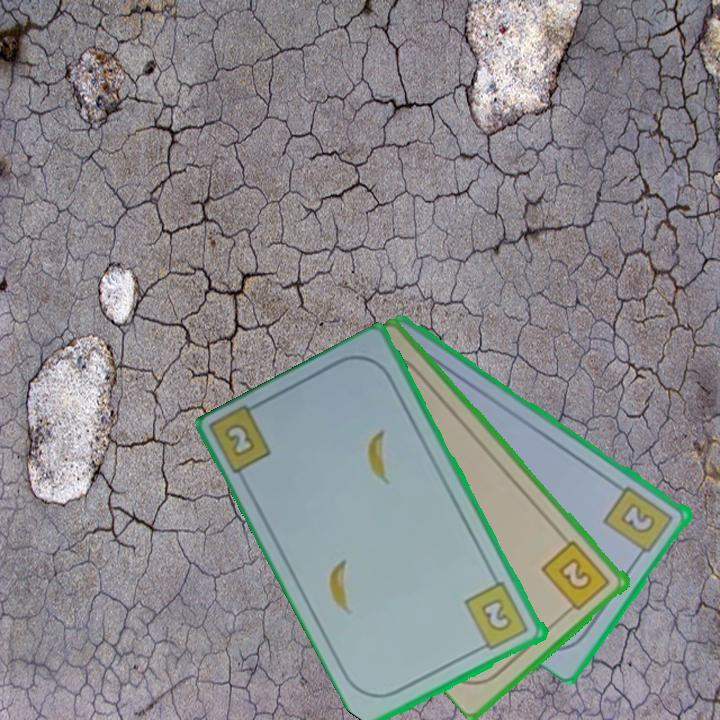2b: (601, 482, 677, 562), (538, 537, 614, 617), (461, 578, 532, 654), (221, 419, 259, 460)
